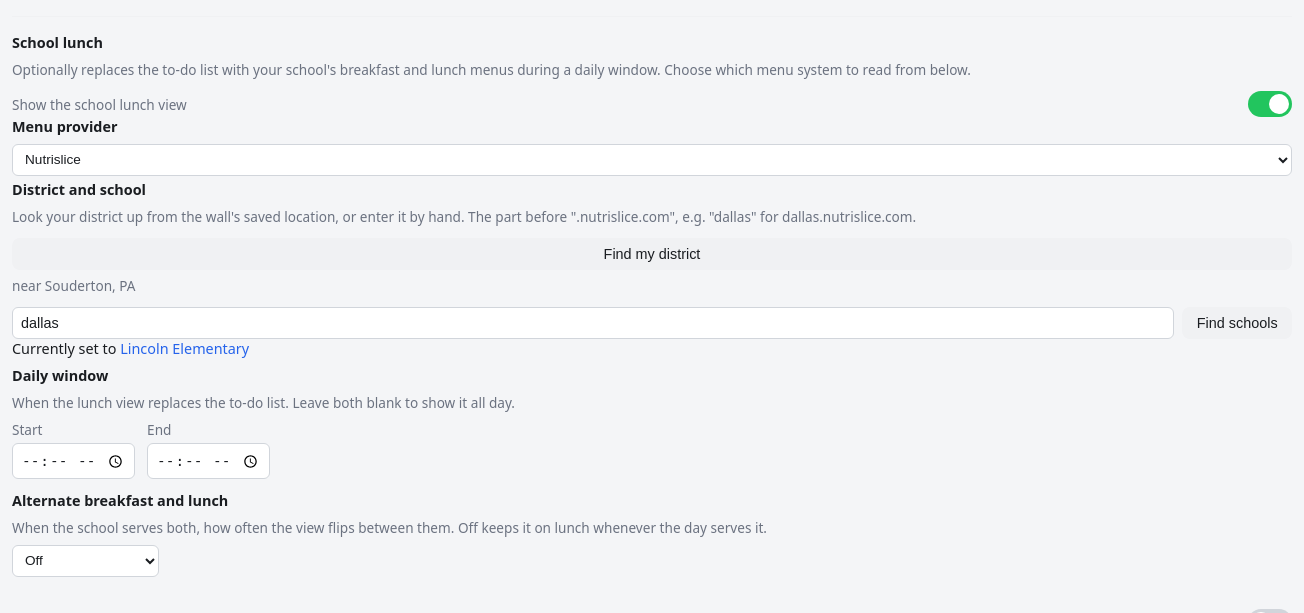
Test case: SchoolLunchSettings › finding a district from the location › finds districts, then loads the chosen district’s schools
Click the button "Find my district": (652, 254) [12,238,1292,270]
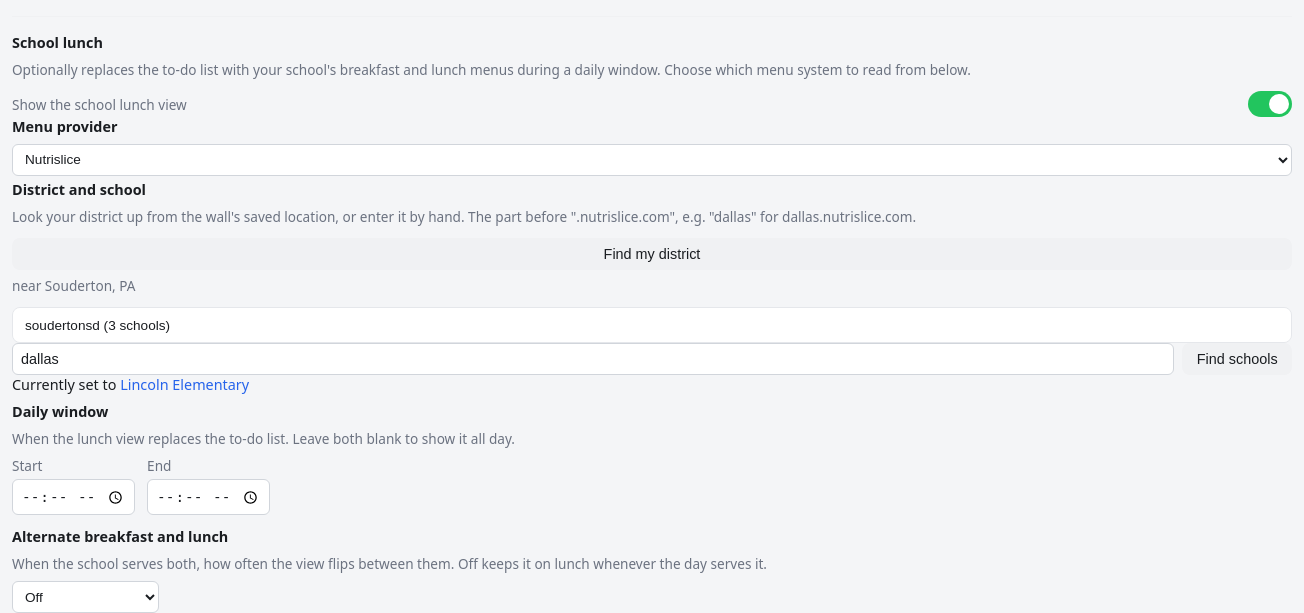
Result: the button "soudertonsd (3 schools)" is shown
Click the button "soudertonsd (3 schools)": (62, 325) [13,308,1291,342]
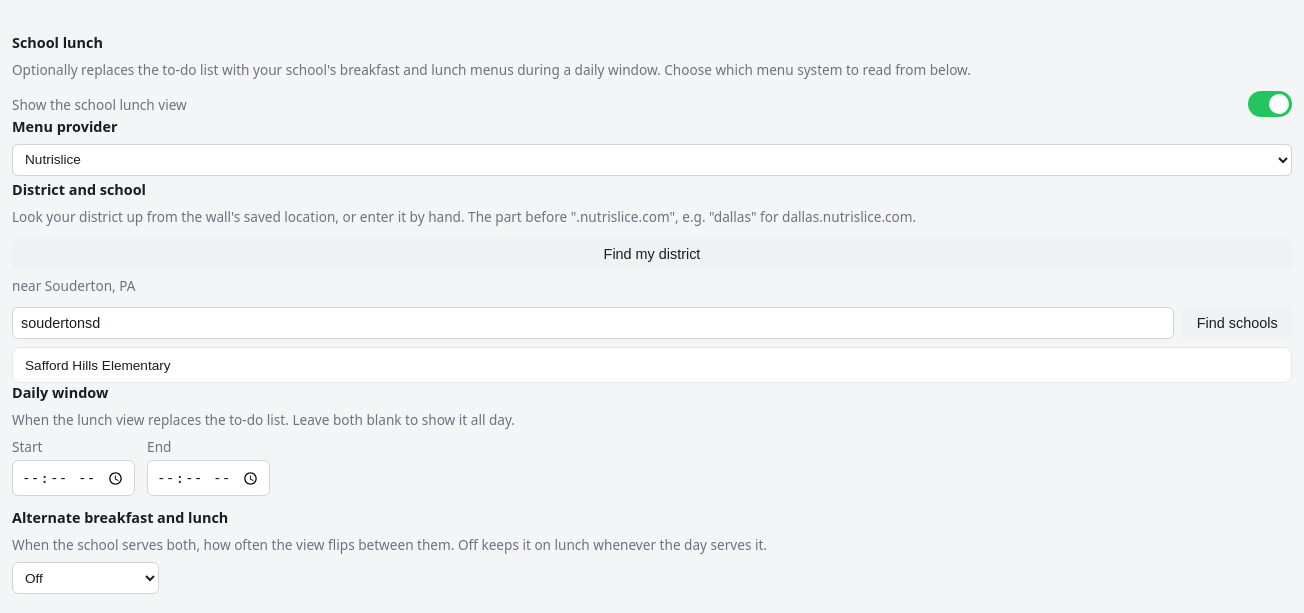
Result: the button "Safford Hills Elementary" is shown at [13,348,1291,382]
